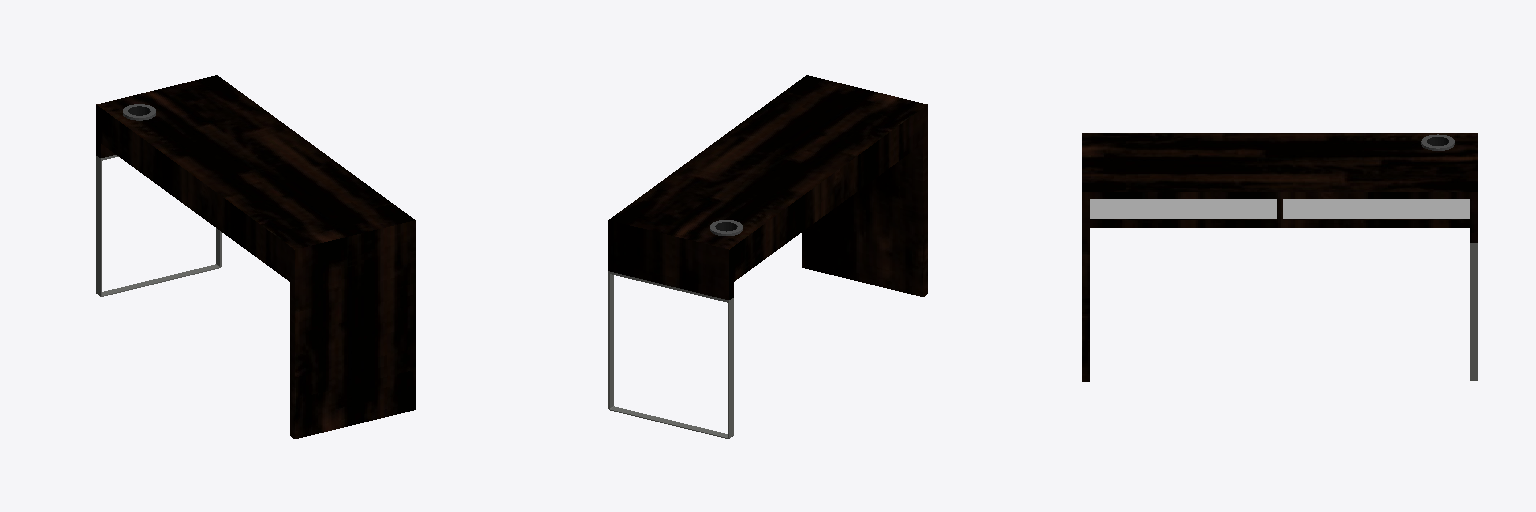
3 views of the same model, side by side, from view 1: azimuth 30°, elevation 25°; view 2: azimuth 150°, elevation 25°; view 3: azimuth 270°, elevation 25° (orthographic).
Parts seen in each view (by area): view 1: Mesh1 Model; view 2: Mesh1 Model; view 3: Mesh1 Model.
Boxes of the visible parts, x1,y1,x2,y2 form: Mesh1 Model: [96, 75, 415, 438]; Mesh1 Model: [608, 75, 927, 438]; Mesh1 Model: [1082, 133, 1477, 381].
Bounding box in the file's own units: 0.5 × 0.76 × 1.42.
6 materials, 1 textured.